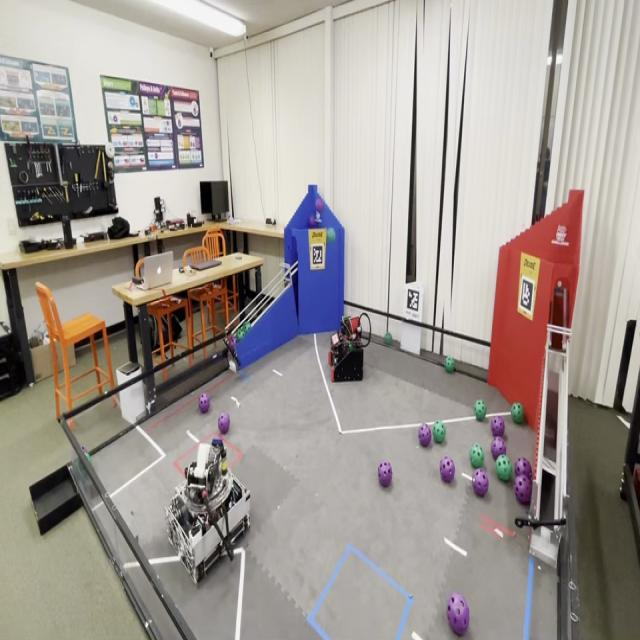artifact_green: (496, 456, 512, 482), (470, 444, 484, 469), (432, 420, 445, 444), (511, 402, 524, 424), (474, 400, 486, 421), (227, 335, 237, 353), (445, 356, 455, 373), (82, 446, 91, 462), (327, 228, 335, 244), (316, 197, 324, 213), (236, 327, 245, 341), (384, 332, 392, 346), (243, 322, 251, 334), (235, 328, 241, 342), (244, 326, 251, 336), (242, 326, 249, 336), (310, 216, 316, 227), (86, 452, 91, 462), (348, 342, 353, 351), (242, 323, 247, 331), (242, 331, 246, 338), (247, 322, 251, 329)
artifact_purple: (448, 592, 469, 636), (514, 476, 531, 506), (472, 469, 489, 496), (440, 457, 455, 483), (378, 460, 392, 487), (515, 458, 532, 479), (492, 437, 506, 459), (491, 416, 505, 437), (418, 424, 431, 446), (218, 411, 230, 434), (199, 394, 210, 414), (228, 335, 237, 351), (316, 198, 323, 213), (310, 216, 315, 227)
